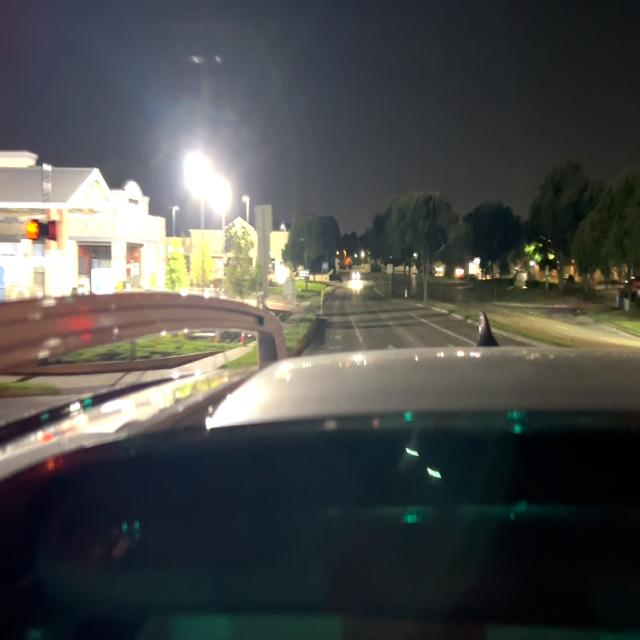back-of-sign: (255, 206, 274, 297)
